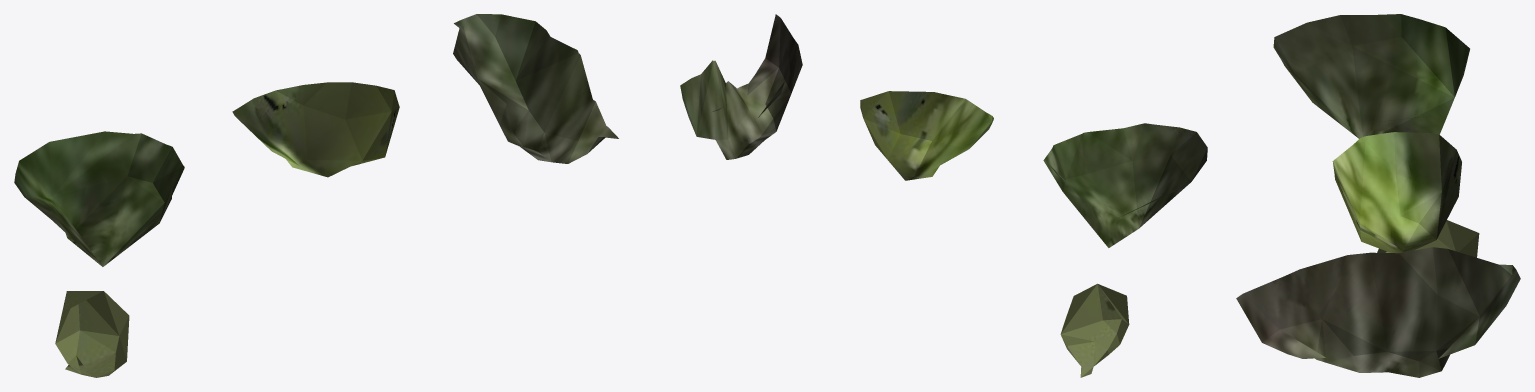
The picture shows the model from 3 angles, left to right: view 1: azimuth 30°, elevation 25°; view 2: azimuth 150°, elevation 25°; view 3: azimuth 270°, elevation 25°; orthographic projection. The views are drawn at different scales.
Size of the model in its own units: 2.75 by 1.08 by 1.16.
Materials: 1 (1 with a texture image).
